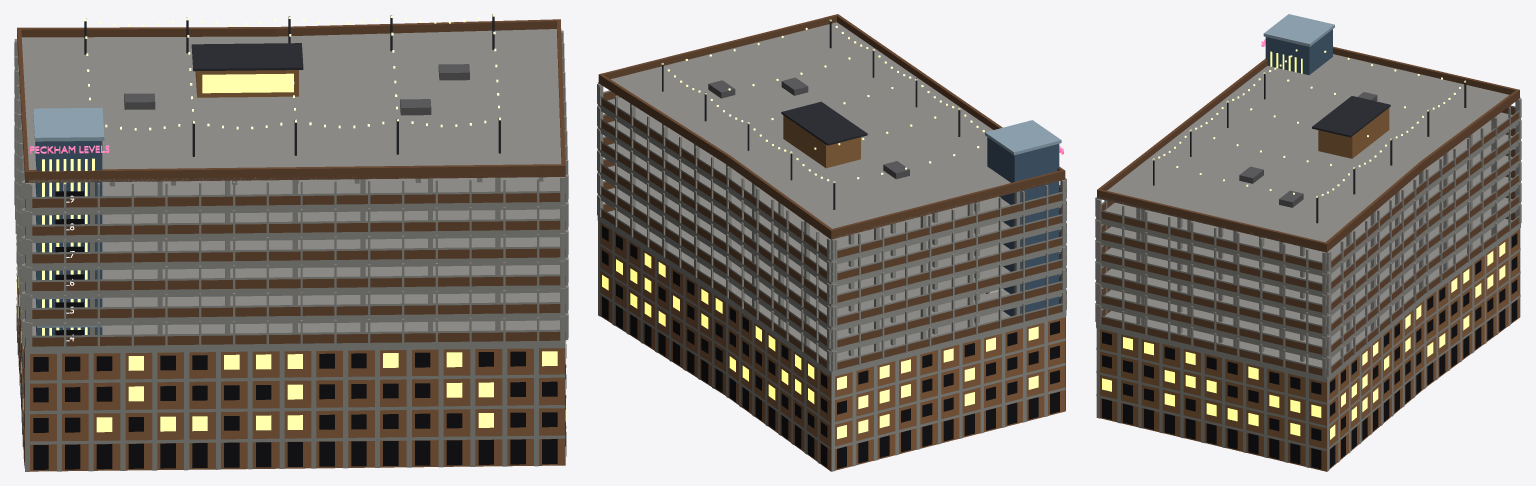
The model's file is levels.glb.
The picture shows the model from 3 angles, left to right: view 1: azimuth 30°, elevation 25°; view 2: azimuth 150°, elevation 25°; view 3: azimuth 270°, elevation 25°; orthographic projection. The views are drawn at different scales.
Visible parts, largest first — view 1: levels_Concrete, levels_Brick_Dark, levels_Brick, levels_Opening_Dark, levels_Emit_Window, levels_Steel, levels_Cladding, levels_Cladding_Light, levels_Concrete_Dark, levels_Timber, levels_Emit_Festoon; view 2: levels_Concrete, levels_Brick_Dark, levels_Brick, levels_Opening_Dark, levels_Cladding, levels_Emit_Window, levels_Steel, levels_Timber, levels_Cladding_Light, levels_Concrete_Dark, levels_Emit_Festoon; view 3: levels_Concrete, levels_Brick_Dark, levels_Brick, levels_Opening_Dark, levels_Emit_Window, levels_Steel, levels_Cladding, levels_Timber, levels_Cladding_Light, levels_Concrete_Dark, levels_Emit_Festoon.
Part boxes in pixels (x1,y1,x2,y2): levels_Concrete: [14, 29, 568, 471]; levels_Brick_Dark: [17, 19, 565, 346]; levels_Brick: [17, 276, 565, 471]; levels_Opening_Dark: [16, 191, 566, 469]; levels_Emit_Window: [16, 73, 566, 432]; levels_Steel: [84, 14, 500, 156]; levels_Cladding: [35, 141, 102, 335]; levels_Cladding_Light: [33, 107, 104, 327]; levels_Concrete_Dark: [124, 64, 469, 115]; levels_Timber: [195, 70, 298, 97]; levels_Emit_Festoon: [84, 14, 500, 130]; levels_Concrete: [597, 22, 1066, 471]; levels_Brick_Dark: [598, 14, 1065, 370]; levels_Brick: [600, 222, 1065, 471]; levels_Opening_Dark: [602, 226, 1059, 468]; levels_Cladding: [987, 137, 1059, 316]; levels_Emit_Window: [602, 253, 1038, 438]; levels_Steel: [662, 19, 988, 293]; levels_Timber: [783, 115, 860, 168]; levels_Cladding_Light: [985, 120, 1061, 155]; levels_Concrete_Dark: [708, 77, 909, 179]; levels_Emit_Festoon: [661, 19, 984, 182]; levels_Concrete: [1095, 54, 1521, 471]; levels_Brick_Dark: [1097, 46, 1519, 376]; levels_Brick: [1100, 229, 1519, 471]; levels_Opening_Dark: [1102, 233, 1517, 469]; levels_Emit_Window: [1102, 51, 1505, 439]; levels_Steel: [1153, 72, 1466, 223]; levels_Cladding: [1265, 29, 1332, 74]; levels_Timber: [1318, 108, 1389, 158]; levels_Cladding_Light: [1263, 14, 1334, 46]; levels_Concrete_Dark: [1239, 92, 1377, 207]; levels_Emit_Festoon: [1152, 49, 1465, 197].
Size of the model in its own units: 63.56 by 36.1 by 54.98.
